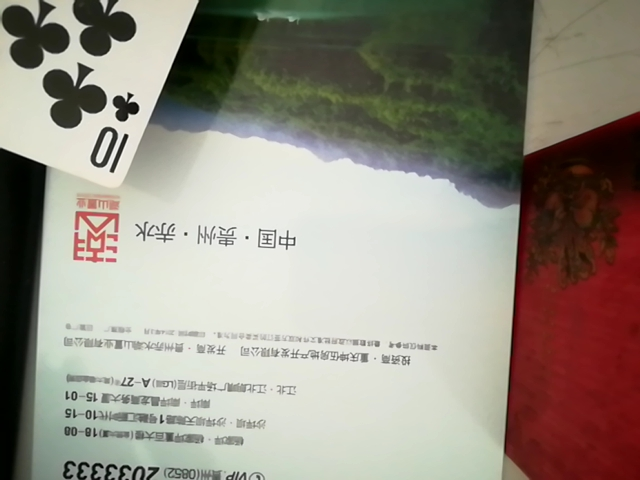mh 10: (0, 0, 232, 195)
